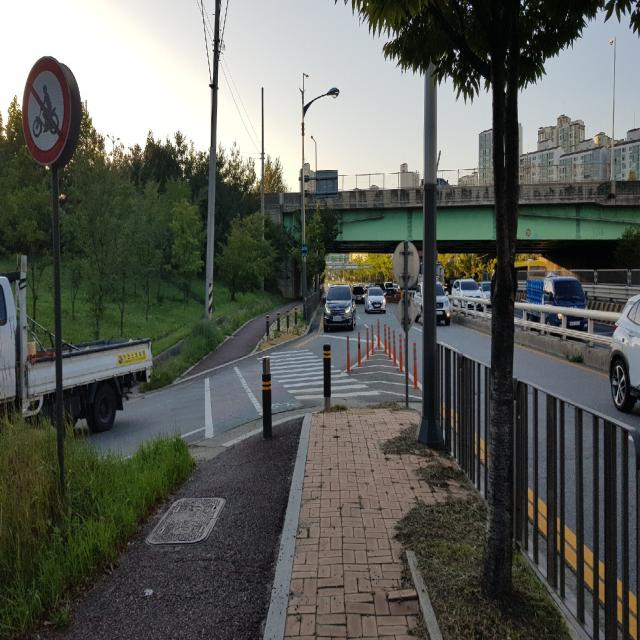횡단보도: (256, 348, 381, 401)
